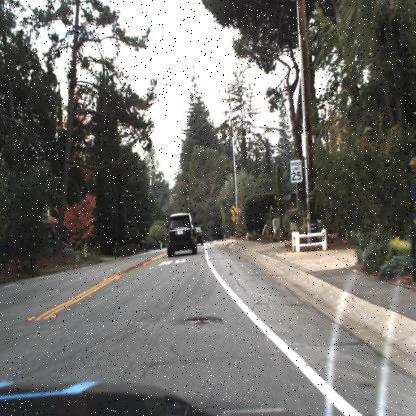car: (168, 215, 198, 261), (192, 221, 205, 249), (193, 226, 205, 248)
